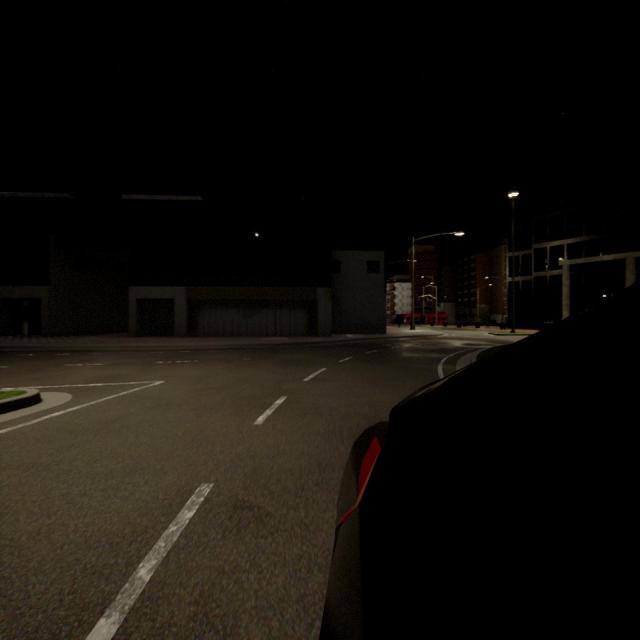Vehicle: (326, 288, 640, 638), (396, 313, 422, 325), (426, 314, 448, 326)
